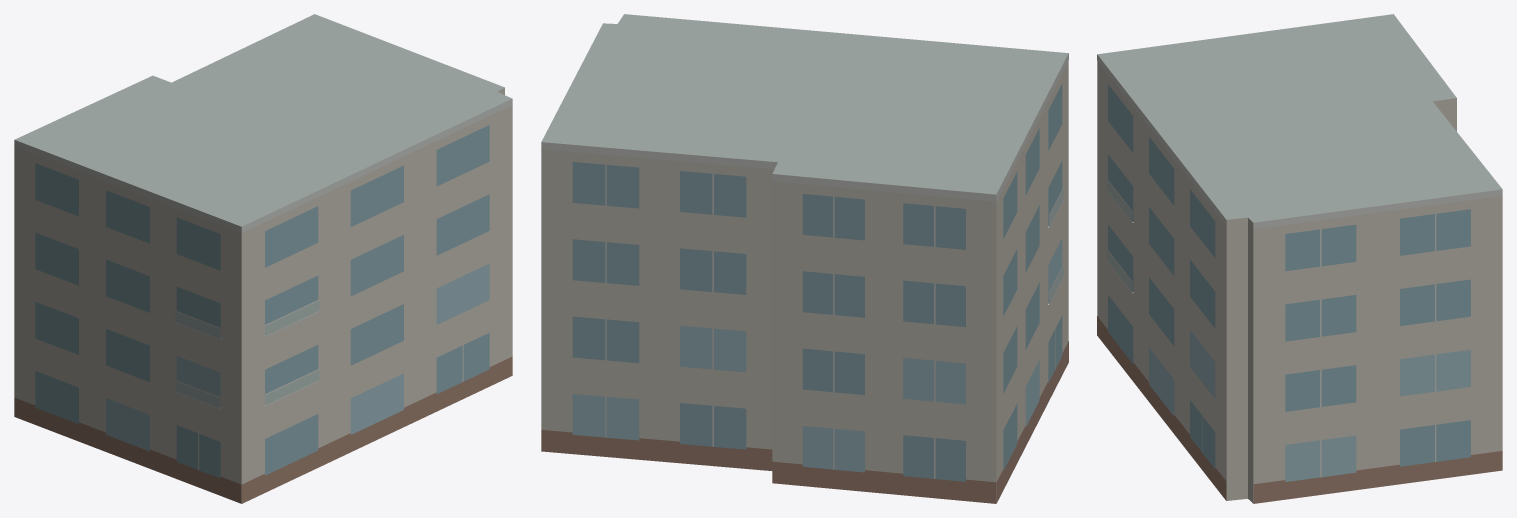
File: survey-upis-32628997.glb
3 views of the same model, side by side, from view 1: azimuth 30°, elevation 25°; view 2: azimuth 150°, elevation 25°; view 3: azimuth 270°, elevation 25° (orthographic). The views are drawn at different scales.
Parts seen in each view (by area): view 1: survey-upis-32628997.tmp; view 2: survey-upis-32628997.tmp; view 3: survey-upis-32628997.tmp.
Part boxes in pixels (bbox=[...]): survey-upis-32628997.tmp: bbox=[14, 14, 512, 503]; survey-upis-32628997.tmp: bbox=[541, 14, 1068, 503]; survey-upis-32628997.tmp: bbox=[1097, 14, 1502, 503].
Bounding box in the file's own units: 16.73 × 10.5 × 13.74.
